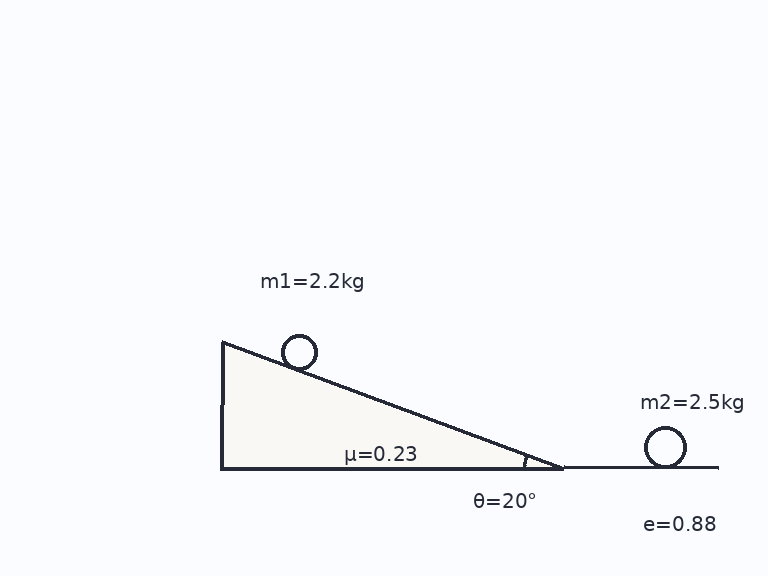ball: (642, 424, 688, 470), (279, 332, 319, 372)
ramp: (219, 341, 566, 470)
